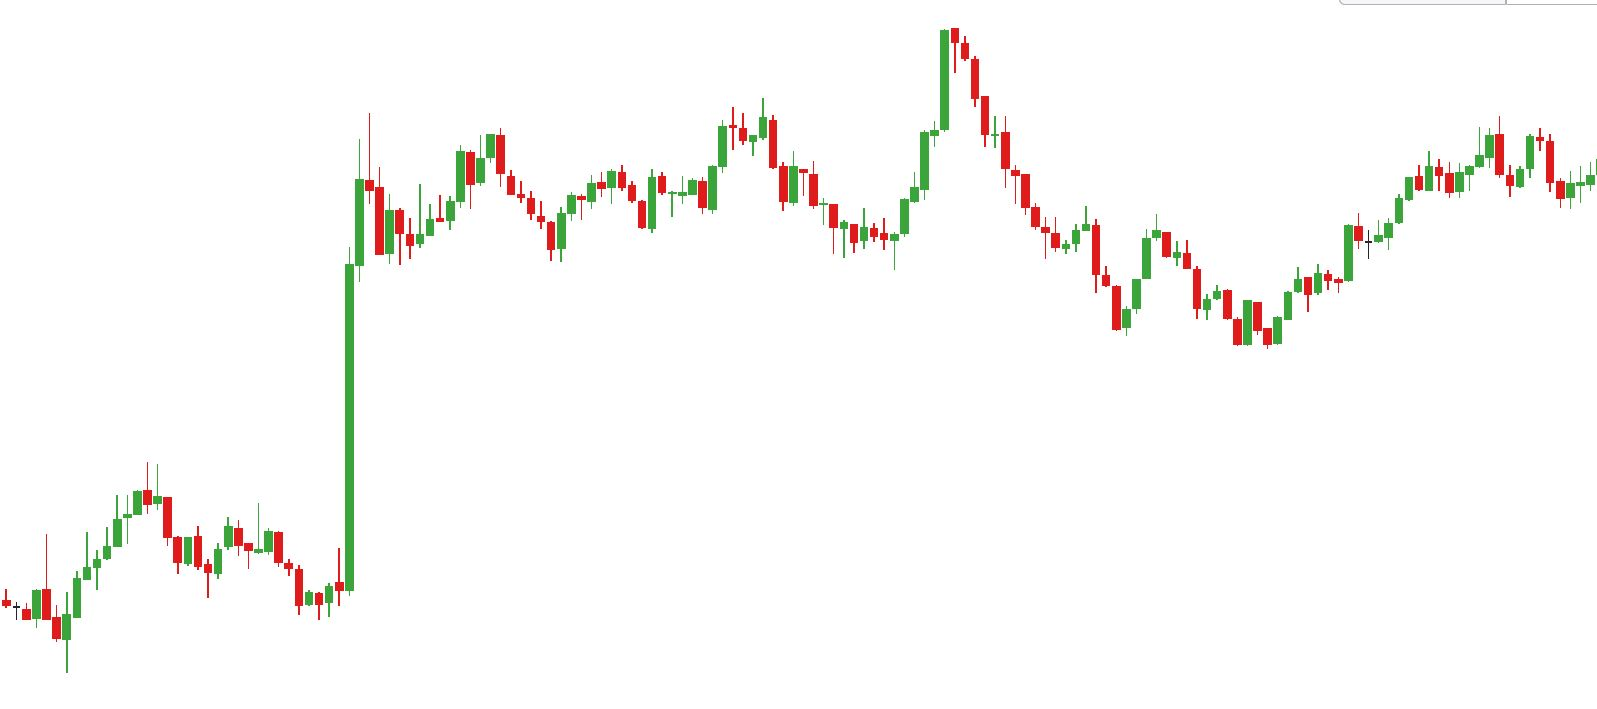buy: (203, 524, 315, 624)
